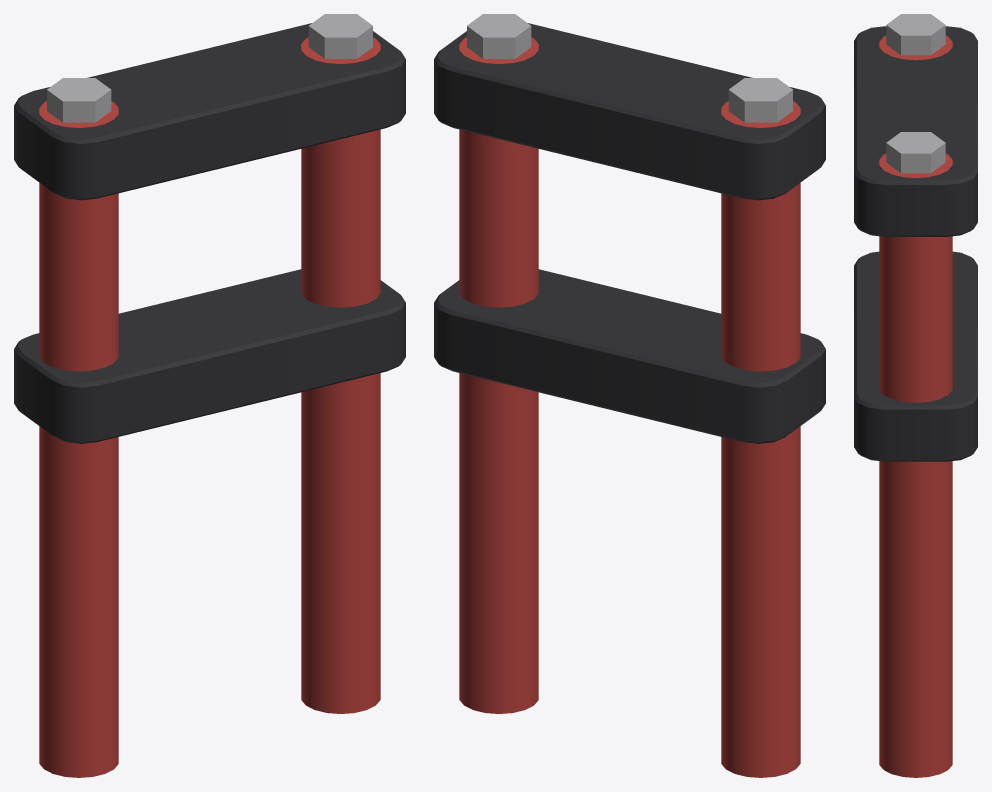
The model's file is cafe_brace_fork_upper.glb.
3 renders of one model, left to right at view 1: azimuth 30°, elevation 25°; view 2: azimuth 150°, elevation 25°; view 3: azimuth 270°, elevation 25°, orthographic. The views are drawn at different scales.
Parts seen in each view (by area): view 1: lod0; view 2: lod0; view 3: lod0.
Boxes of the visible parts, x1=… form: lod0: x1=14, y1=14, x2=405, y2=777; lod0: x1=434, y1=14, x2=825, y2=777; lod0: x1=854, y1=14, x2=977, y2=777.
Size of what is drawn, in the model's own units: 0.24 by 0.441 by 0.08.
